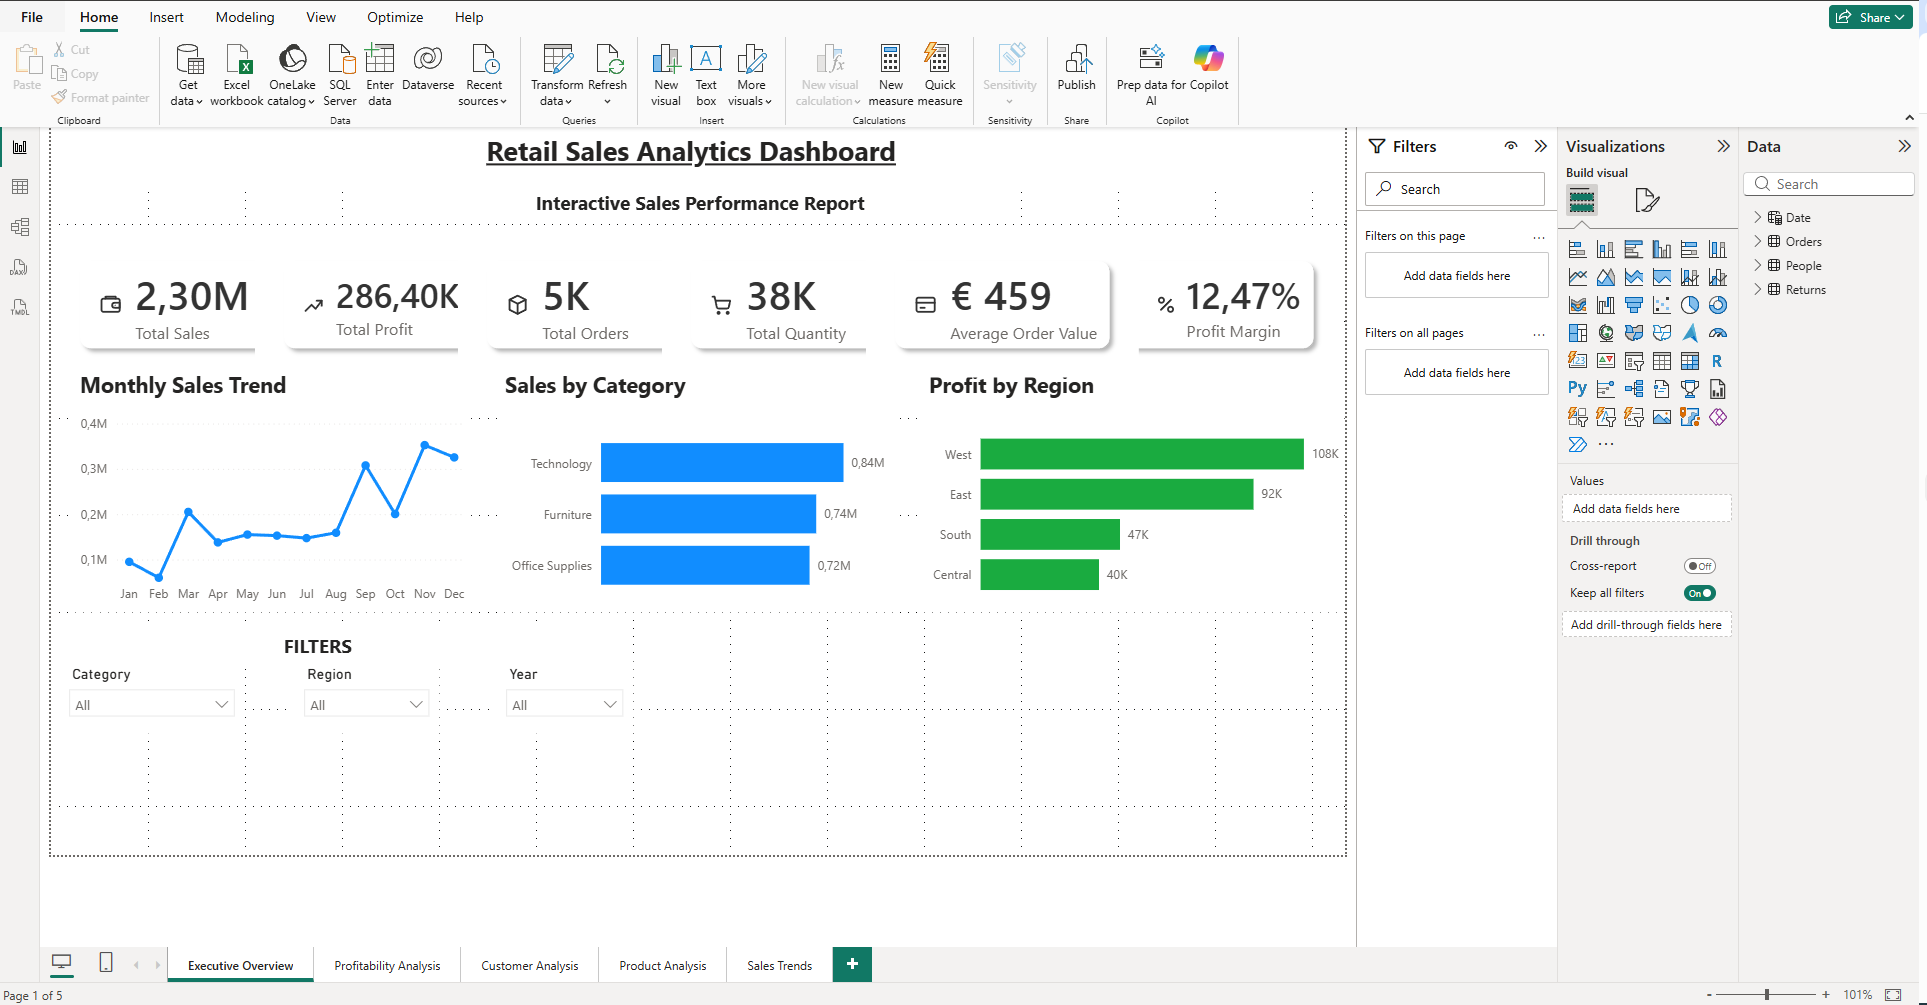

The dashboard page shown, as its layout file describes it:
{"tool":"powerbi","page":{"name":"Executive Overview","canvas":[1280,720],"ordinal":0},"visuals":[{"type":"cardVisual","fields":{"Data":["Date.Total Sales"]},"box":[0,104,270,144],"z":0},{"type":"cardVisual","fields":{"Data":["Date.Total Profit"]},"box":[201.6,104,270,144],"z":1000},{"type":"cardVisual","fields":{"Data":["Date.Total Orders"]},"box":[403.2,104,270,144],"z":2000},{"type":"cardVisual","fields":{"Data":["Date.Total Quantity"]},"box":[604.8,104,270,144],"z":3000},{"type":"cardVisual","fields":{"Data":["Date.Profit Margin"]},"box":[1008,104,270,144],"z":4000},{"type":"clusteredBarChart","title":"Sales by Category","fields":{"Category":["Orders.Category"],"Y":["Date.Total Sales"]},"box":[444,240,392,240],"z":5000},{"type":"lineChart","title":"Monthly Sales Trend","fields":{"Category":["Date.Month Short"],"Y":["Date.Total Sales"]},"box":[24,240,392,240],"z":6000},{"type":"barChart","title":"Profit by Region","fields":{"Category":["Orders.Region"],"Y":["Date.Total Profit"]},"box":[864,240,416,240],"z":7000},{"type":"textbox","box":[0,0,1267.1,57.6],"z":8000},{"type":"textbox","box":[353.8,57.6,578.1,36.4],"z":9000},{"type":"slicer","fields":{"Values":["Date.Year"]},"box":[440,528,136,72],"z":11000},{"type":"slicer","fields":{"Values":["Orders.Region"]},"box":[240,528,144,72],"z":12000},{"type":"slicer","fields":{"Values":["Orders.Category"]},"box":[8,528,184,72],"z":13000},{"type":"cardVisual","fields":{"Data":["Date.Average Order Value"]},"box":[806.4,104,270,144],"z":14000},{"type":"textbox","box":[0,496,528,40],"z":15000}]}

Visuals, with their boxes on the page's 1280x720 design canvas (x1, y1, x2, y2). These are canvas units, not pixel positions in the 1927x1005 screenshot, which may show the page scaled, cropped or inside an application window:
cardVisual - Date.Total Sales: 0, 104, 270, 248
cardVisual - Date.Total Profit: 202, 104, 472, 248
cardVisual - Date.Total Orders: 403, 104, 673, 248
cardVisual - Date.Total Quantity: 605, 104, 875, 248
cardVisual - Date.Profit Margin: 1008, 104, 1278, 248
"Sales by Category" clusteredBarChart: 444, 240, 836, 480
"Monthly Sales Trend" lineChart: 24, 240, 416, 480
"Profit by Region" barChart: 864, 240, 1280, 480
textbox: 0, 0, 1267, 58
textbox: 354, 58, 932, 94
slicer - Date.Year: 440, 528, 576, 600
slicer - Orders.Region: 240, 528, 384, 600
slicer - Orders.Category: 8, 528, 192, 600
cardVisual - Date.Average Order Value: 806, 104, 1076, 248
textbox: 0, 496, 528, 536
